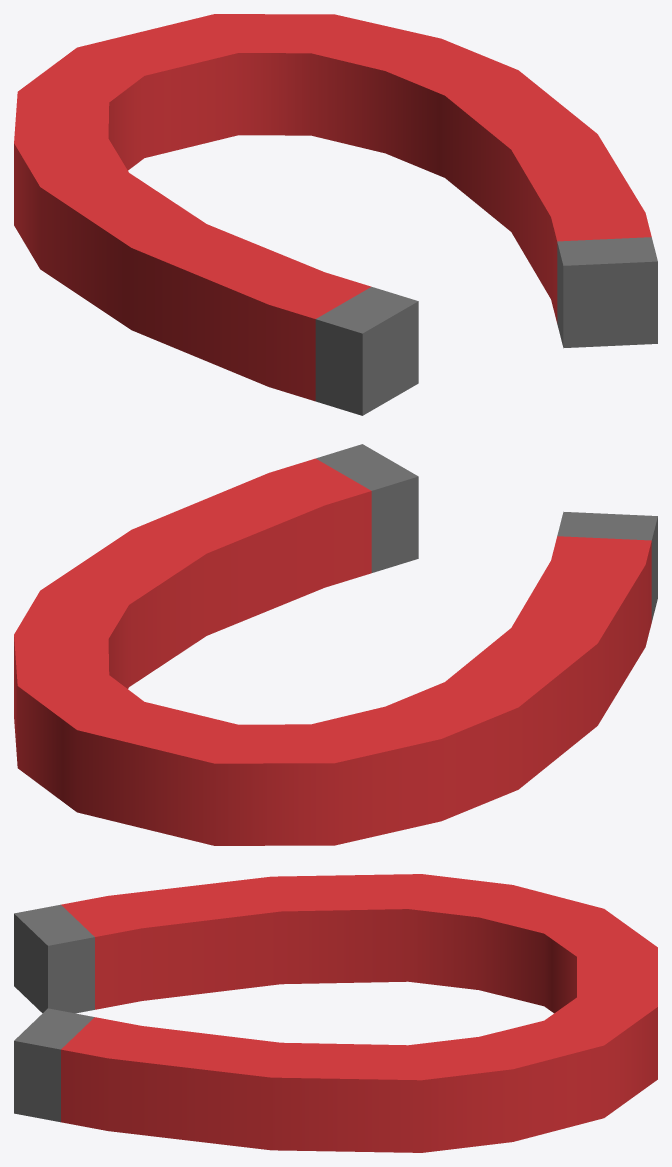
The model's file is iman.fbx.
3 views of the same model, one above another, from view 1: azimuth 30°, elevation 25°; view 2: azimuth 150°, elevation 25°; view 3: azimuth 270°, elevation 25° (orthographic). The views are drawn at different scales.
Parts seen in each view (by area): view 1: Plane; view 2: Plane; view 3: Plane.
Boxes of the visible parts, box(x1,y1,x2,y2) form: Plane: box(14, 14, 657, 415); Plane: box(14, 444, 657, 845); Plane: box(14, 874, 657, 1152).
Size of the model in its own units: 15.04 by 2.47 by 19.85.
